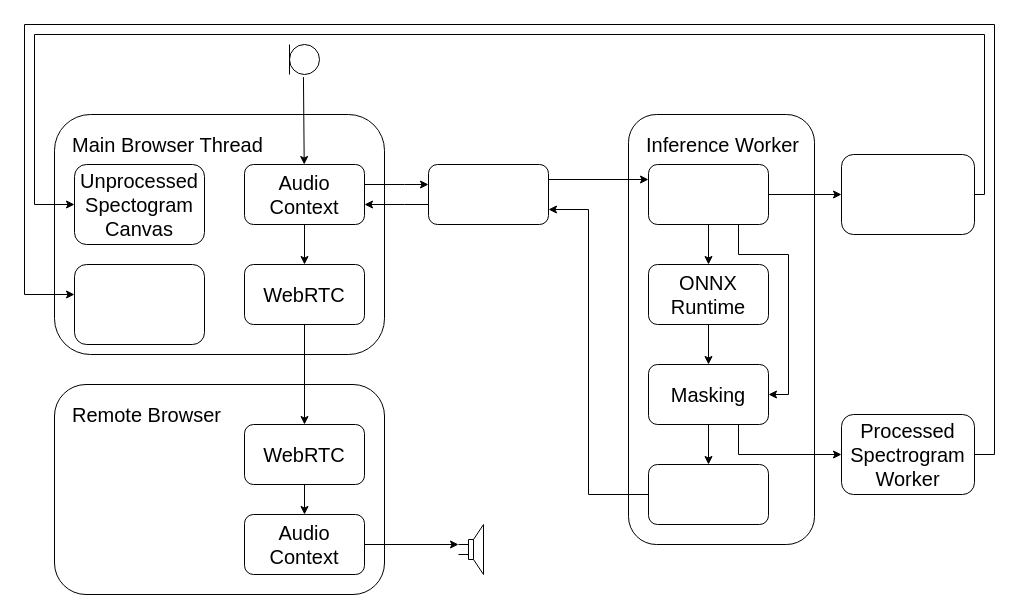
This 1020x612 diagram has some shape labels left out. The centre of each missing label's shape, as x and y in pixels:
Audio Worklet: point (488, 194)
ISTFT: point (708, 494)
Processed Spectrogram Canvas: point (139, 304)
STFT: point (708, 194)
Unprocessed Spectrogram Worker: point (907, 194)
